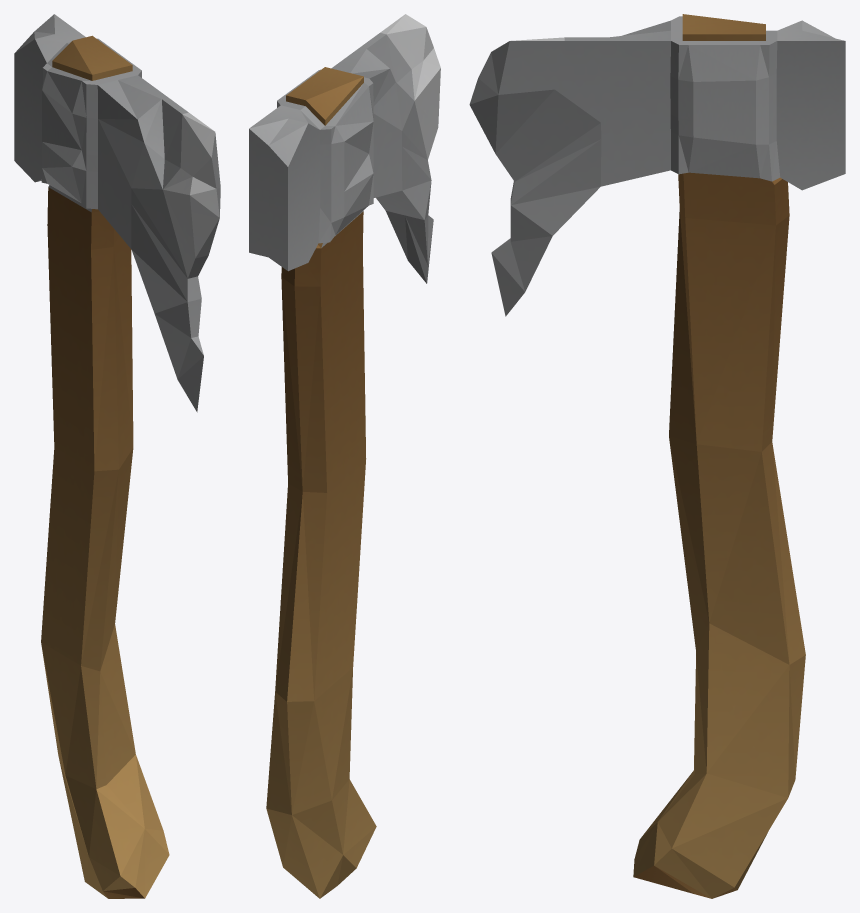
The model's file is axe_b.obj.
3 views of the same model, side by side, from view 1: azimuth 30°, elevation 25°; view 2: azimuth 150°, elevation 25°; view 3: azimuth 270°, elevation 25° (orthographic). The views are drawn at different scales.
Visible parts, largest first — view 1: axe_b_Material; view 2: axe_b_Material; view 3: axe_b_Material.
Boxes of the visible parts, x1,y1,x2,y2 form: axe_b_Material: [14, 14, 220, 898]; axe_b_Material: [249, 14, 440, 898]; axe_b_Material: [469, 14, 845, 898].
Size of the model in its own units: 0.0597 by 0.5872 by 0.2302.
